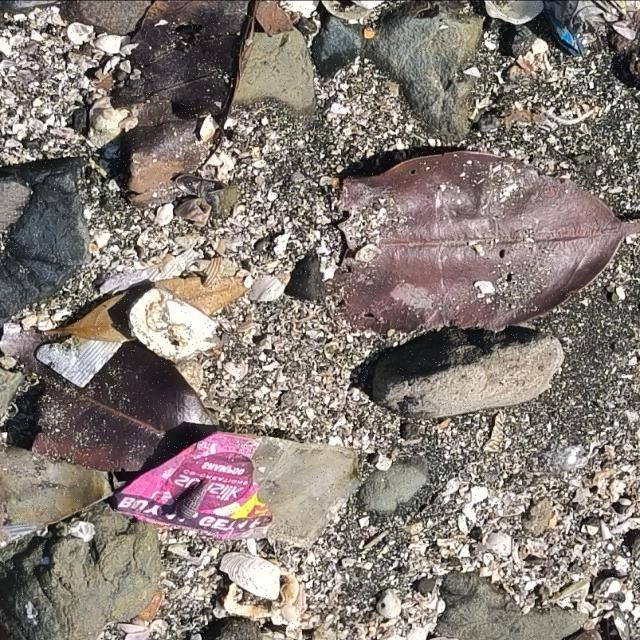plastic_waste: (114, 430, 276, 542)
